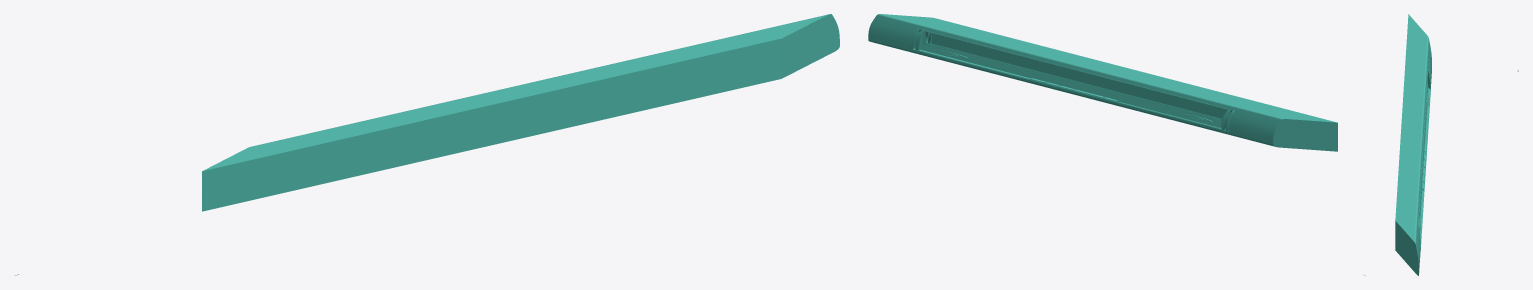
The model's file is radio.fbx.
3 views of the same model, side by side, from view 1: azimuth 30°, elevation 25°; view 2: azimuth 150°, elevation 25°; view 3: azimuth 270°, elevation 25° (orthographic). The views are drawn at different scales.
Parts seen in each view (by area): view 1: Radiokast; view 2: Radiokast, Luidsprek0, Zenderscha, Lijstprofi, Luidspreke; view 3: Radiokast, Lijstprofi, Zenderscha, ChamferBox.
Boxes of the visible parts, left/top/right/bottom form: Radiokast: left=202, top=14, right=839, bottom=211; Radiokast: left=868, top=14, right=1337, bottom=151; Luidsprek0: left=931, top=33, right=1226, bottom=118; Zenderscha: left=921, top=43, right=1221, bottom=127; Lijstprofi: left=911, top=29, right=1234, bottom=131; Luidspreke: left=926, top=31, right=1221, bottom=119; Radiokast: left=1395, top=14, right=1431, bottom=275; Lijstprofi: left=1418, top=66, right=1430, bottom=250; Zenderscha: left=1418, top=82, right=1428, bottom=222; ChamferBox: left=1420, top=189, right=1423, bottom=241.
Bounding box in the file's own units: 2051477 × 338248 × 389408.
